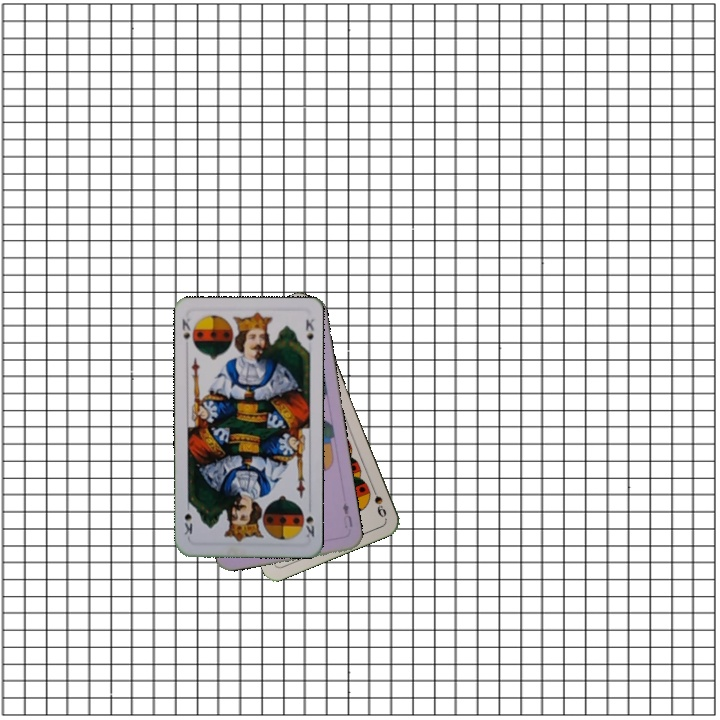EU: (339, 495, 355, 531)
S9: (367, 481, 389, 520)
SK: (178, 315, 197, 350), (301, 512, 317, 540)
